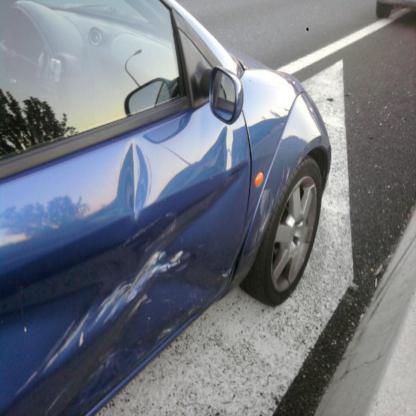door: (2, 101, 252, 416)
front_bumper: (229, 93, 332, 293)
